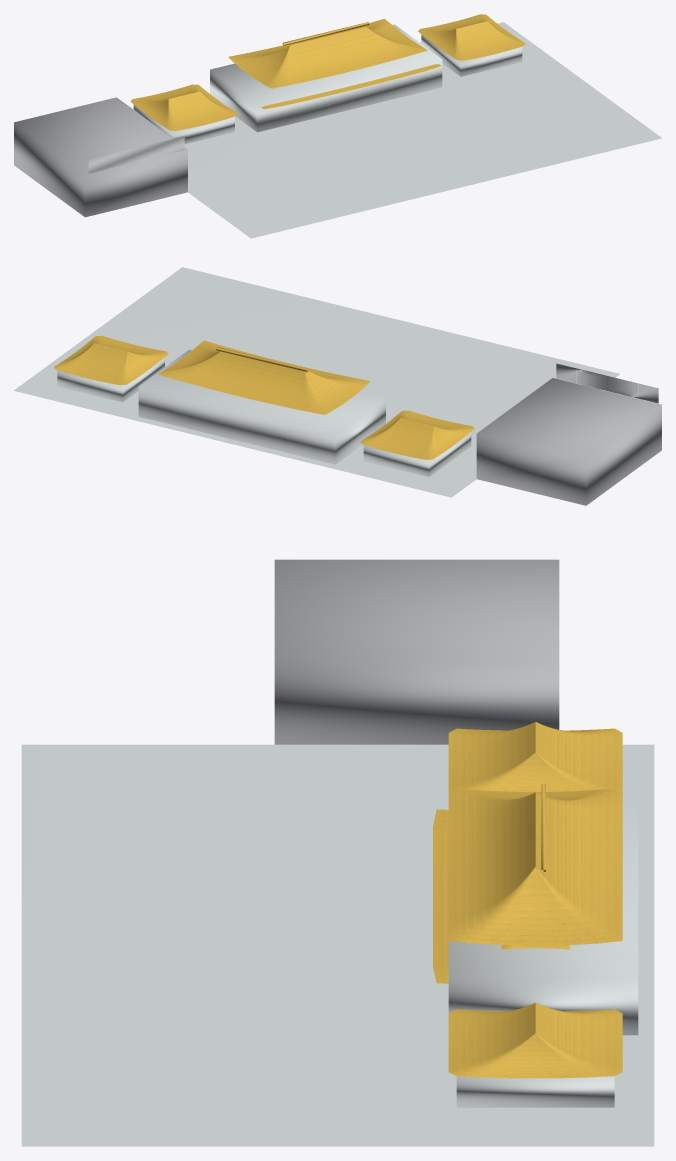
3 views of the same model, one above another, from view 1: azimuth 30°, elevation 25°; view 2: azimuth 150°, elevation 25°; view 3: azimuth 270°, elevation 25° (orthographic). The views are drawn at different scales.
Visible parts, largest first — view 1: lawn_garden_simplified, yeongbingwan_simplified, main_bldg_simplified, main_roof_simplified, wings_roof_simplified, wings_simplified; view 2: lawn_garden_simplified, yeongbingwan_simplified, main_bldg_simplified, main_roof_simplified, wings_roof_simplified, wings_simplified; view 3: lawn_garden_simplified, yeongbingwan_simplified, main_roof_simplified, wings_roof_simplified, main_bldg_simplified, wings_simplified.
Boxes of the visible parts, x1,y1,x2,y2 form: lawn_garden_simplified: [184, 22, 661, 238]; yeongbingwan_simplified: [14, 97, 187, 217]; main_bldg_simplified: [210, 24, 442, 132]; main_roof_simplified: [228, 18, 441, 109]; wings_roof_simplified: [130, 14, 525, 130]; wings_simplified: [133, 34, 522, 143]; lawn_garden_simplified: [14, 267, 619, 497]; yeongbingwan_simplified: [476, 363, 661, 505]; main_bldg_simplified: [138, 349, 385, 464]; main_roof_simplified: [158, 340, 370, 414]; wings_roof_simplified: [54, 335, 474, 459]; wings_simplified: [57, 357, 471, 476]; lawn_garden_simplified: [21, 744, 654, 1146]; yeongbingwan_simplified: [274, 559, 559, 744]; main_roof_simplified: [433, 784, 622, 983]; wings_roof_simplified: [448, 722, 622, 1078]; main_bldg_simplified: [448, 798, 638, 1035]; wings_simplified: [456, 1076, 614, 1107].
Size of the model in its own units: 150 by 16.8 by 80.
4 materials, 4 textured.
